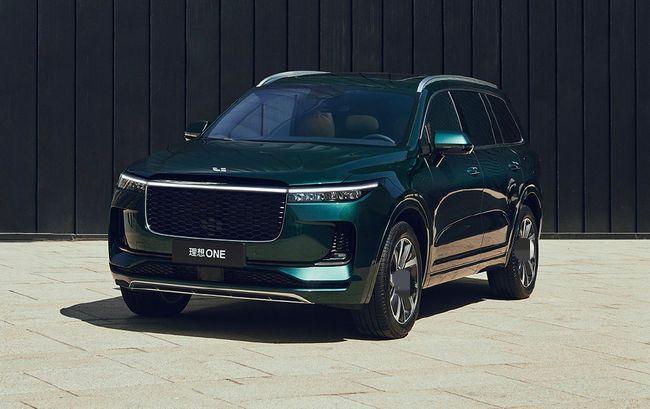Li Auto: (212, 166, 227, 172)
